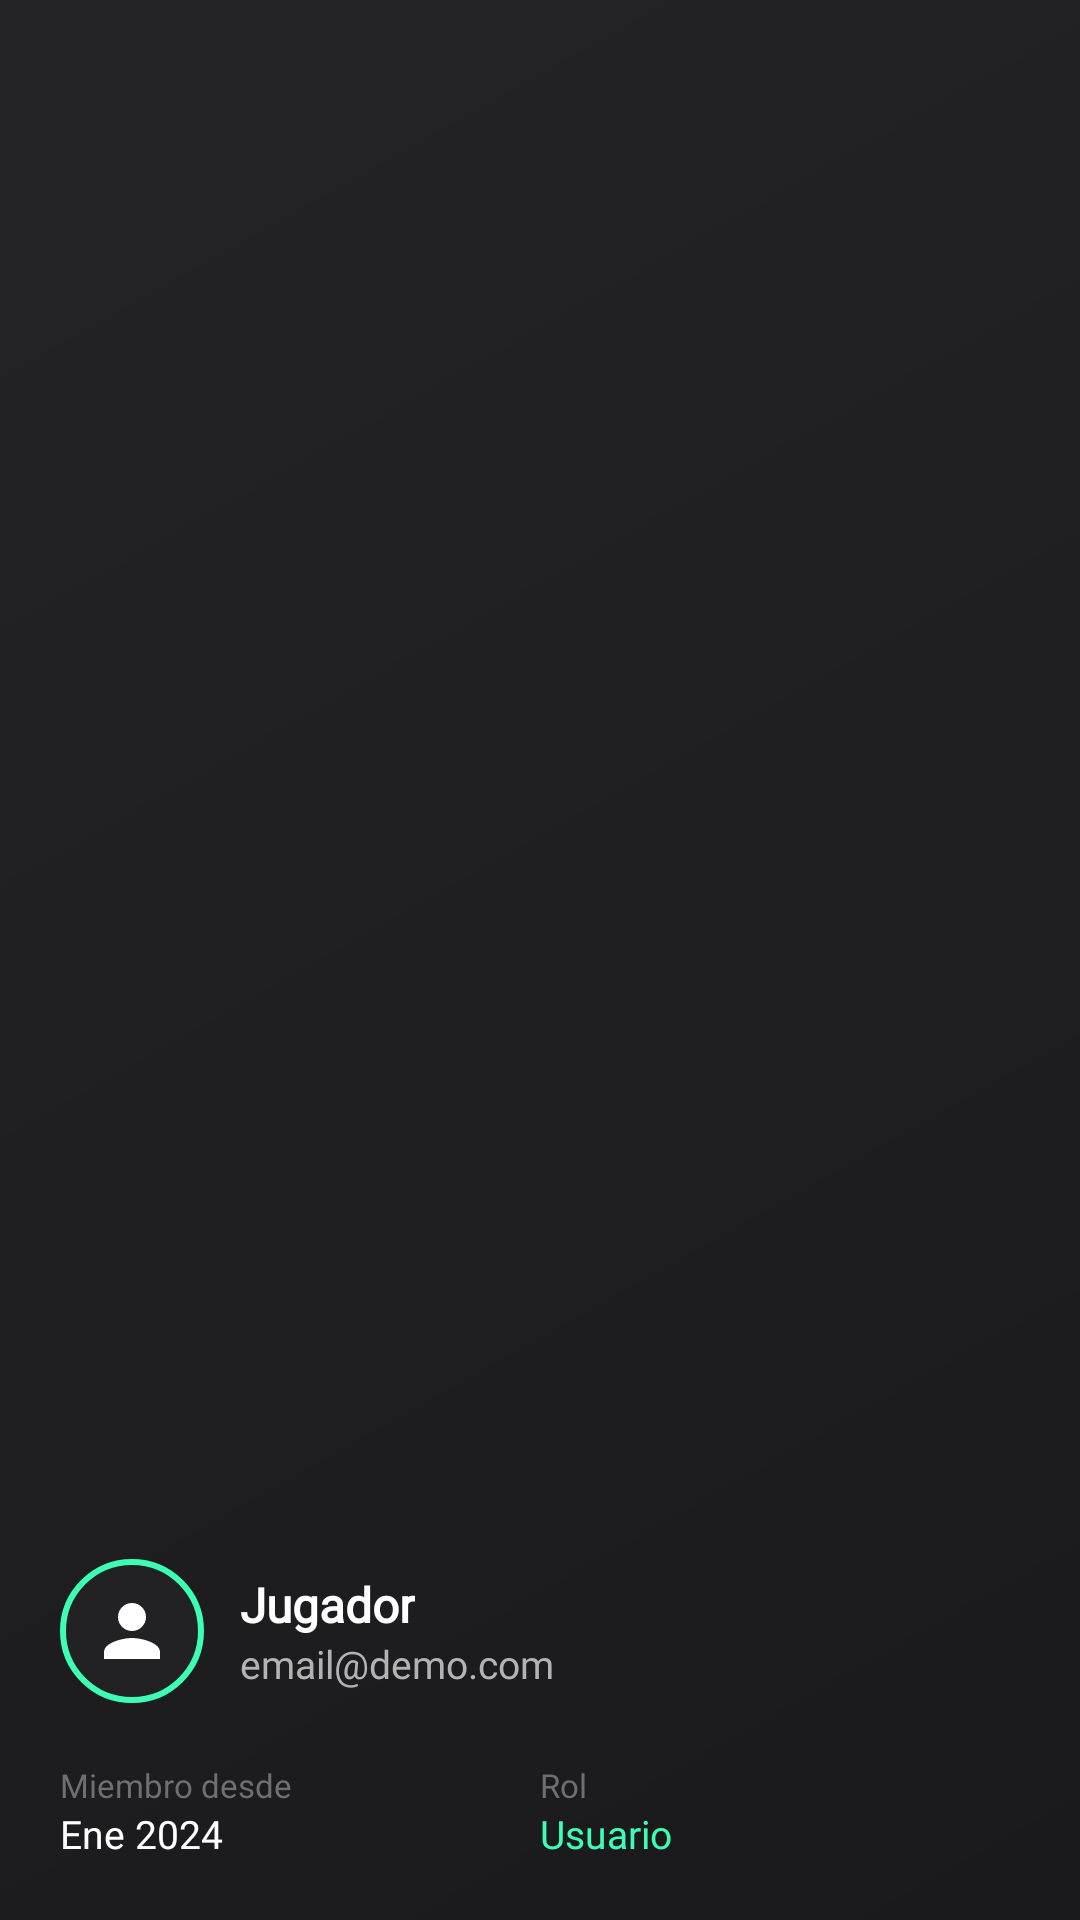

Screen size 1080px x 1920px. Icon name, then its box in pixels as {"left": x1, "top": y1, "right": x2, "bottom": y2}:
Avatar: {"left": 60, "top": 1559, "right": 204, "bottom": 1703}
